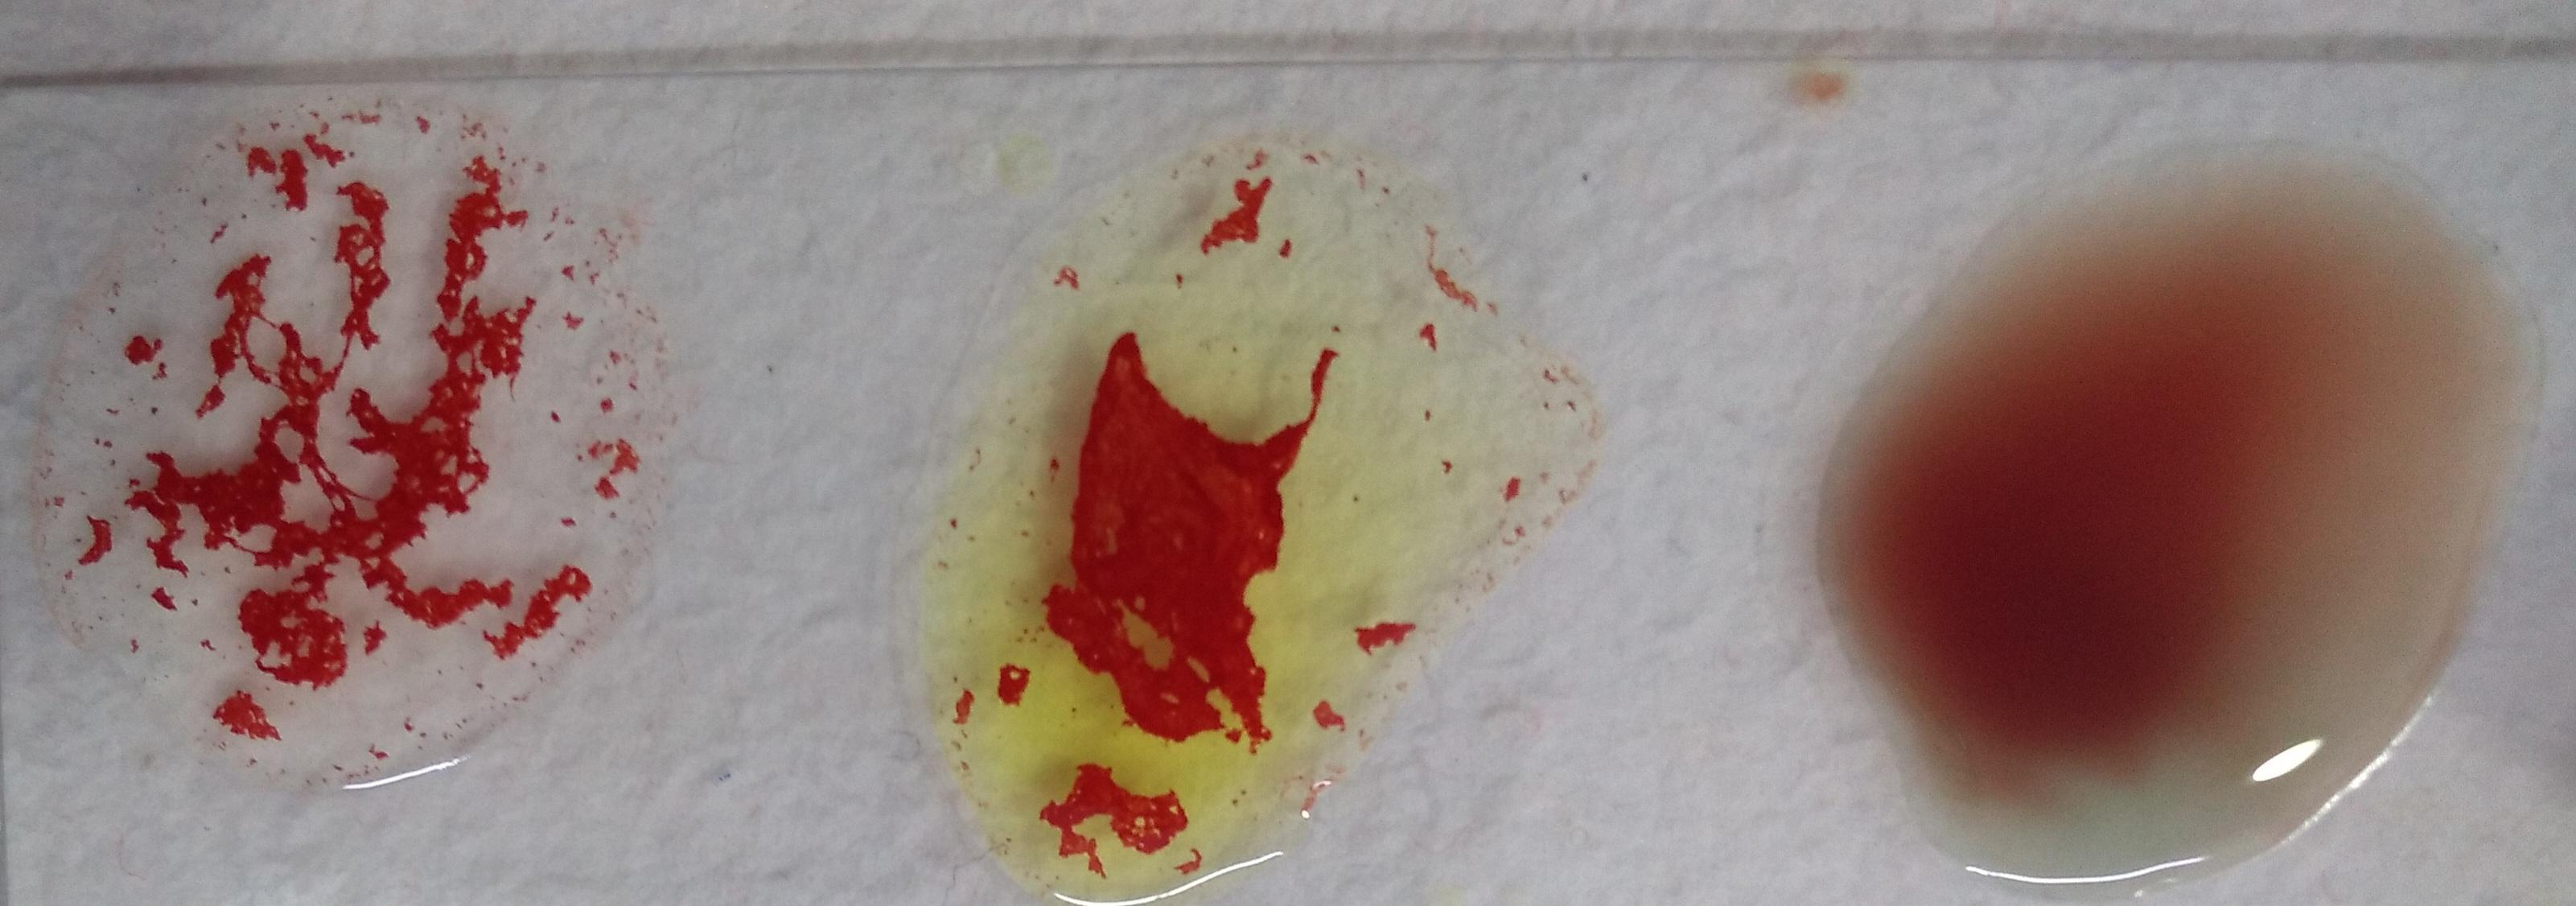B: (899, 128, 1536, 904)
D: (59, 94, 662, 825)
